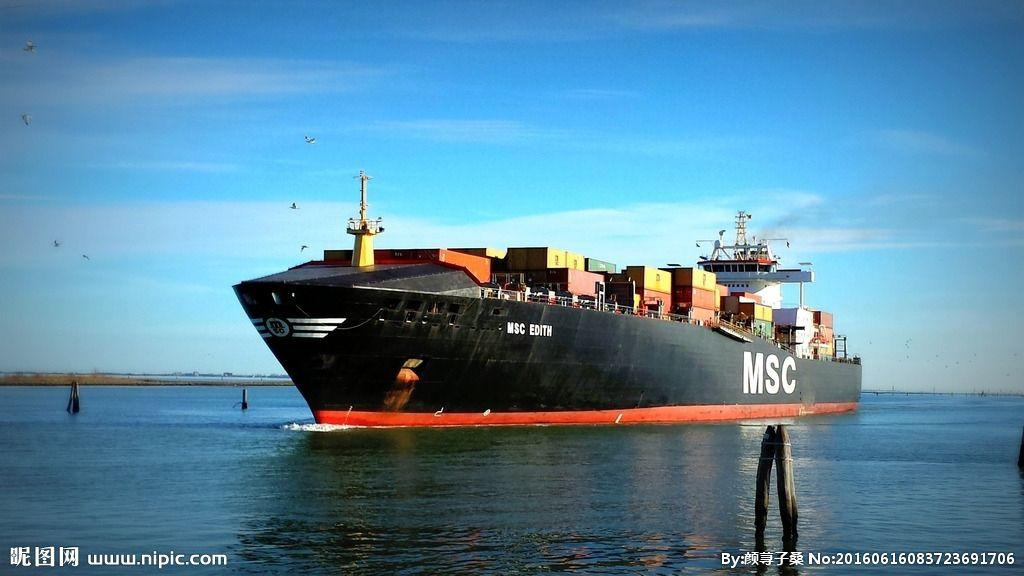Cargoship: (226, 180, 871, 464)
